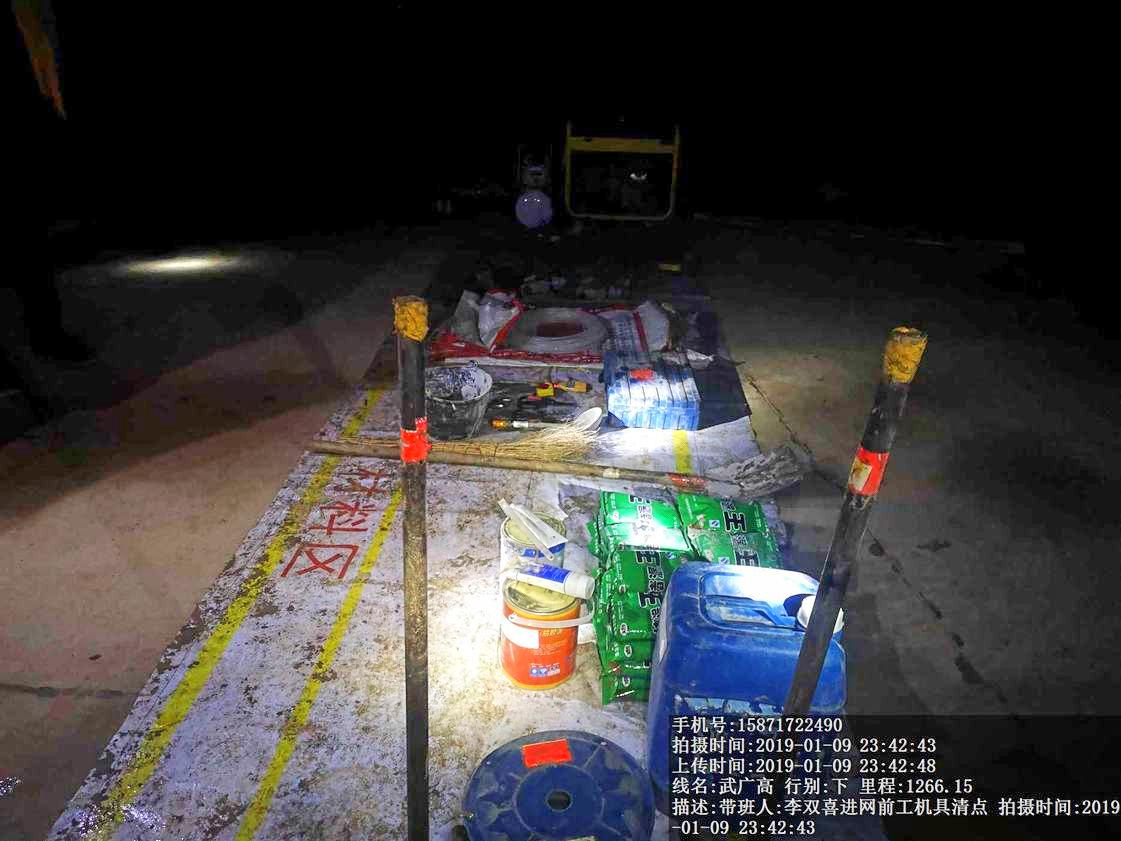SB: (326, 417, 596, 461)
SG: (512, 296, 612, 356)
SNT: (416, 353, 501, 426)
